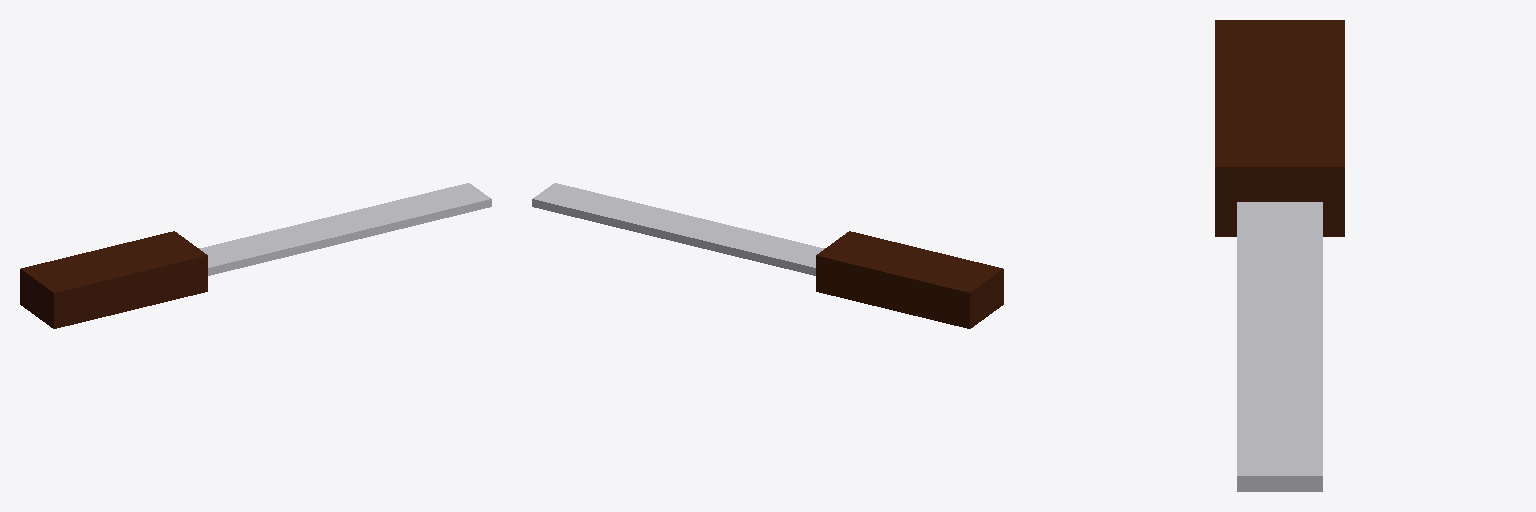
URDF robot description (ycb_048_knife):
<?xml version="1.0"?>
<robot name="ycb_048_knife">
  <link name="knife">
    <inertial>
      <origin xyz="0 0 0" rpy="0 0 0"/>
      <mass value="0.08"/>
      <inertia ixx="1.6e-4" iyy="1.6e-4" izz="5e-5" ixy="0" ixz="0" iyz="0"/>
    </inertial>

    <!-- blade -->
    <visual>
      <origin xyz="0.08 0 0.01" rpy="0 0 0"/>
      <geometry>
        <box size="0.16 0.02 0.004"/>
      </geometry>
      <material name="knife_blade">
        <color rgba="0.8 0.8 0.82 1"/>
      </material>
    </visual>
    <collision>
      <origin xyz="0.08 0 0.01" rpy="0 0 0"/>
      <geometry>
        <box size="0.16 0.02 0.004"/>
      </geometry>
    </collision>

    <!-- handle -->
    <visual>
      <origin xyz="-0.03 0 0.012" rpy="0 0 0"/>
      <geometry>
        <box size="0.08 0.03 0.018"/>
      </geometry>
      <material name="knife_handle">
        <color rgba="0.3 0.15 0.08 1"/>
      </material>
    </visual>
    <collision>
      <origin xyz="-0.03 0 0.012" rpy="0 0 0"/>
      <geometry>
        <box size="0.08 0.03 0.018"/>
      </geometry>
    </collision>
  </link>
</robot>

--- Render facts (derived) ---
The picture shows the robot from 3 angles, left to right: view 1: azimuth 30°, elevation 25°; view 2: azimuth 150°, elevation 25°; view 3: azimuth 270°, elevation 25°; orthographic projection.
Model ycb_048_knife with 1 links and 0 joints (none), rooted at knife, posed every joint at zero.
Visible links, largest first — view 1: knife; view 2: knife; view 3: knife.
Link boxes in pixels (<box>): knife: <box>20,183,491,328</box>; knife: <box>532,183,1003,328</box>; knife: <box>1215,20,1344,491</box>.
Bounding box of the posed robot: 0.23 × 0.03 × 0.018 m (x, y, z).
Geometry: primitives only (box / cylinder / sphere), no mesh files.
